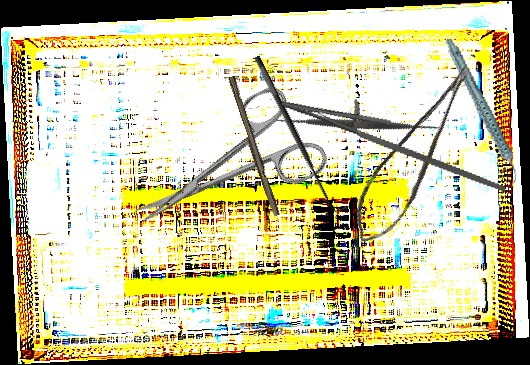Handpiece: (443, 30, 520, 192)
Hook Surgical: (252, 49, 350, 219)
Iris Scissors: (112, 78, 333, 258)
Micro Scissor: (335, 61, 501, 253)
Needle Holder: (273, 82, 518, 193)
Scalpel Handle: (224, 75, 282, 218)
Spatula Surgical: (270, 37, 446, 211)
